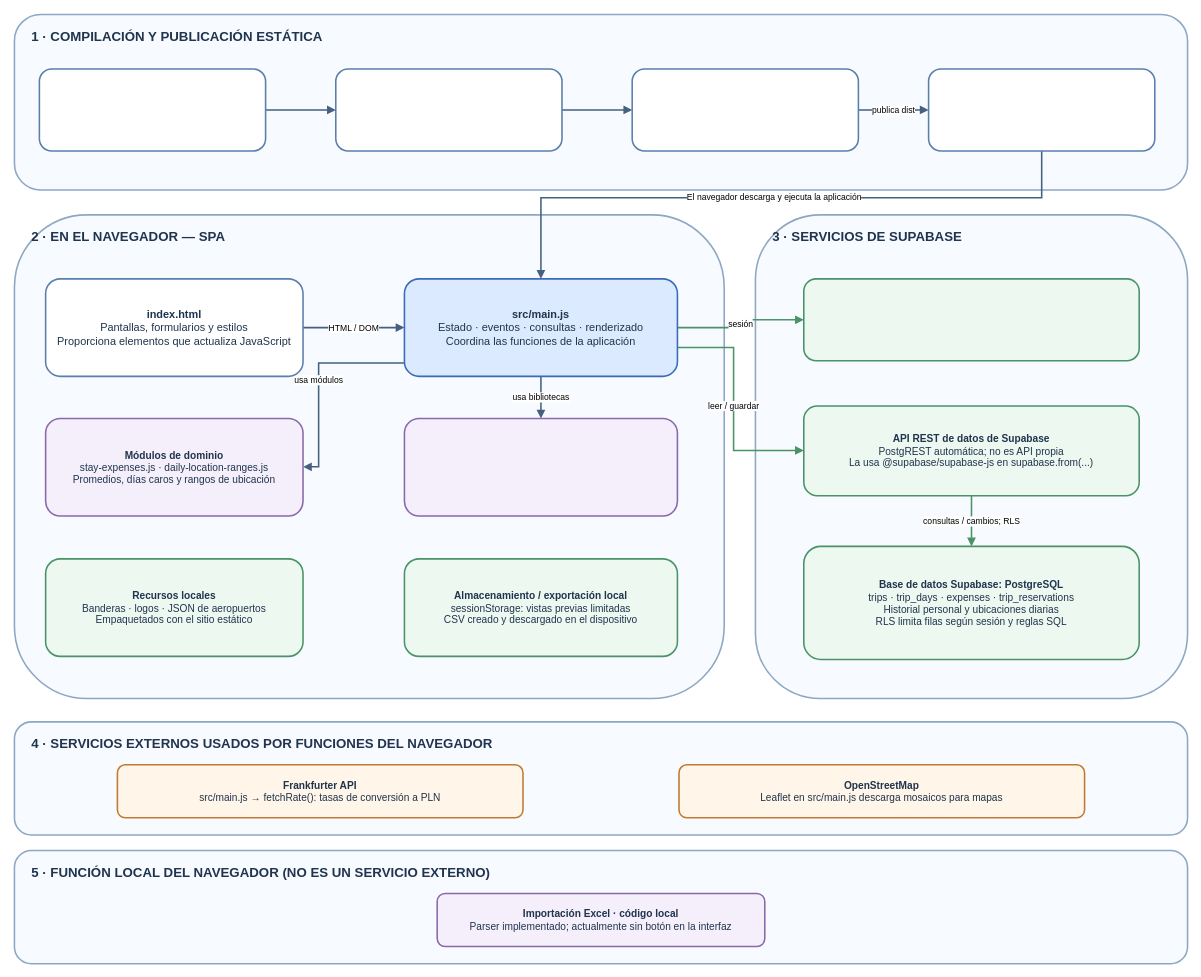
The diagram is 1201 pixels wide and 977 high, and some of its shapes have lost their labels. Each missing label, with the centre of its shape:
"Bibliotecas Chart.js · Leaflet · Turf Gráficos, mapas y rutas aéreas" belongs at [540,466].
"Código fuente HTML · JavaScript · CSS · recursos" belongs at [152,109].
"GitHub Actions npm ci · npm run build" belongs at [448,109].
"GitHub Pages Entrega archivos; no ejecuta backend" belongs at [1041,109].
"Supabase Auth Inicio de sesión · sesión persistente · cierre de sesión" belongs at [971,319].
"Vite Empaqueta archivos estáticos en dist/" belongs at [745,109].
